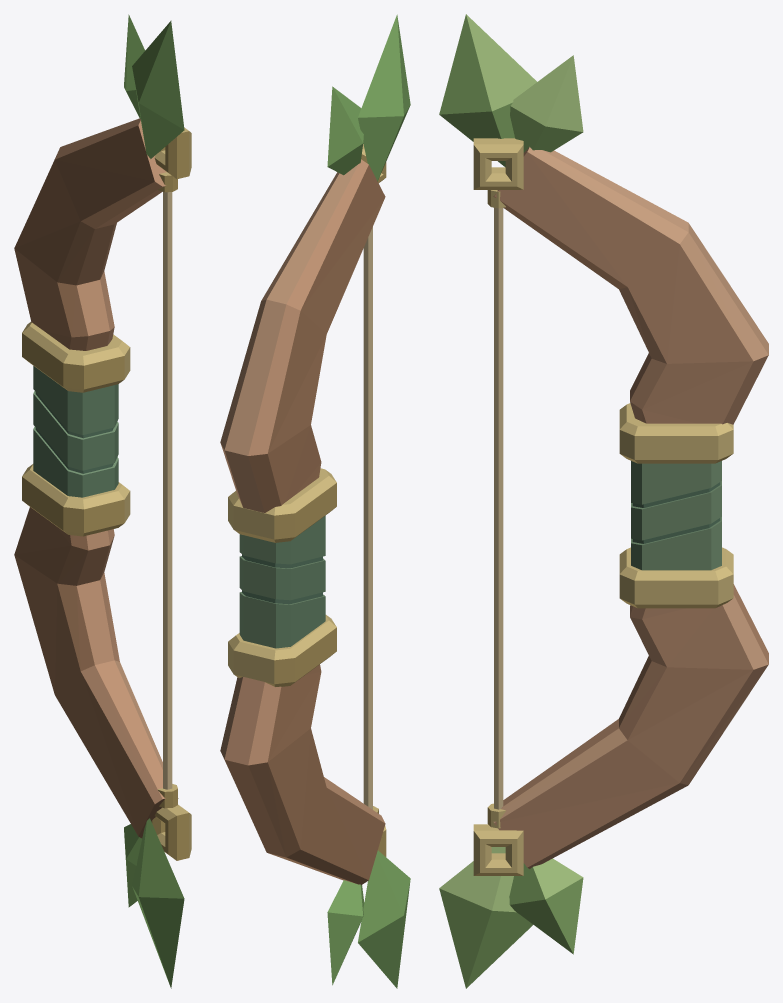
Rendered from twig_bow_roblox.glb.
3 views of the same model, side by side, from view 1: azimuth 30°, elevation 25°; view 2: azimuth 150°, elevation 25°; view 3: azimuth 270°, elevation 25° (orthographic).
Visible parts, largest first — view 1: Bow, Leaves, String; view 2: Bow, Leaves, String; view 3: Bow, Leaves, String.
Part boxes in pixels (box(x1,y1,x2,y2)): Bow: box(14, 118, 191, 860); Leaves: box(124, 14, 184, 988); String: box(163, 172, 172, 789); Bow: box(220, 144, 386, 885); Leaves: box(327, 14, 410, 988); String: box(363, 227, 372, 809); Bow: box(473, 138, 768, 875); Leaves: box(439, 14, 583, 988); String: box(494, 207, 503, 809).
Size of the model in its own units: 0.085 by 1.18 by 0.3614.
